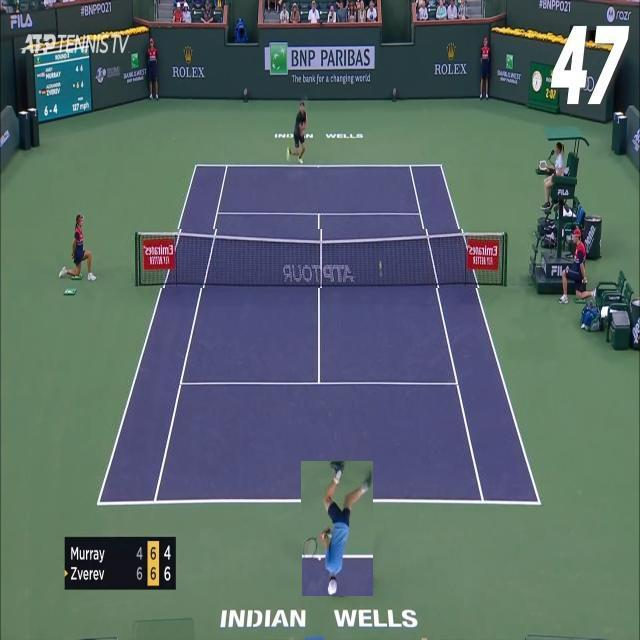court: (97, 165, 544, 506)
net: (133, 229, 508, 288)
player: (302, 461, 373, 596)
